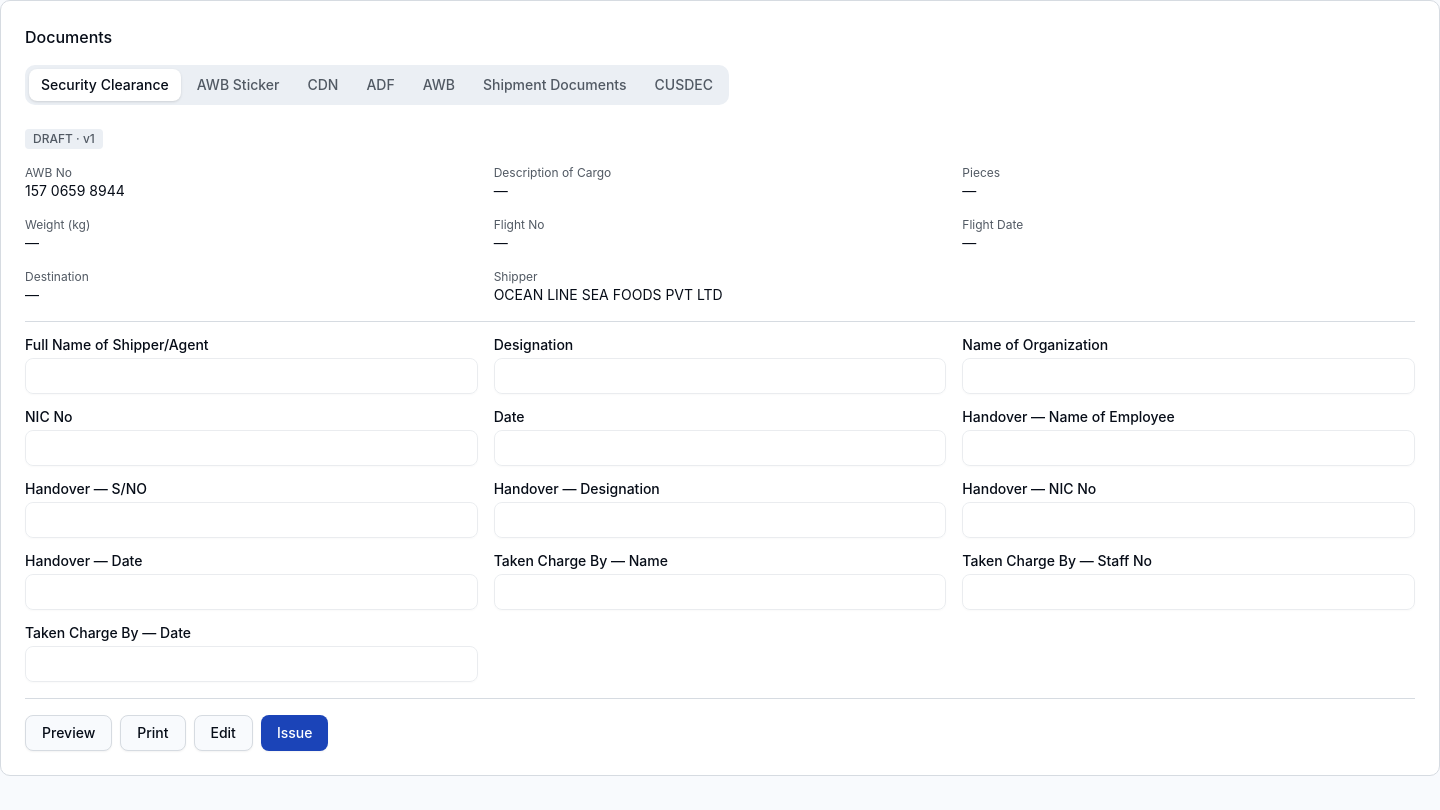
Test case: DocumentsSection › field data starts read-only with an Edit button; Cancel reverts without saving
Expected: the button "Save" is not shown
Click the button "Edit" at (223, 733), box [194,715,253,751]
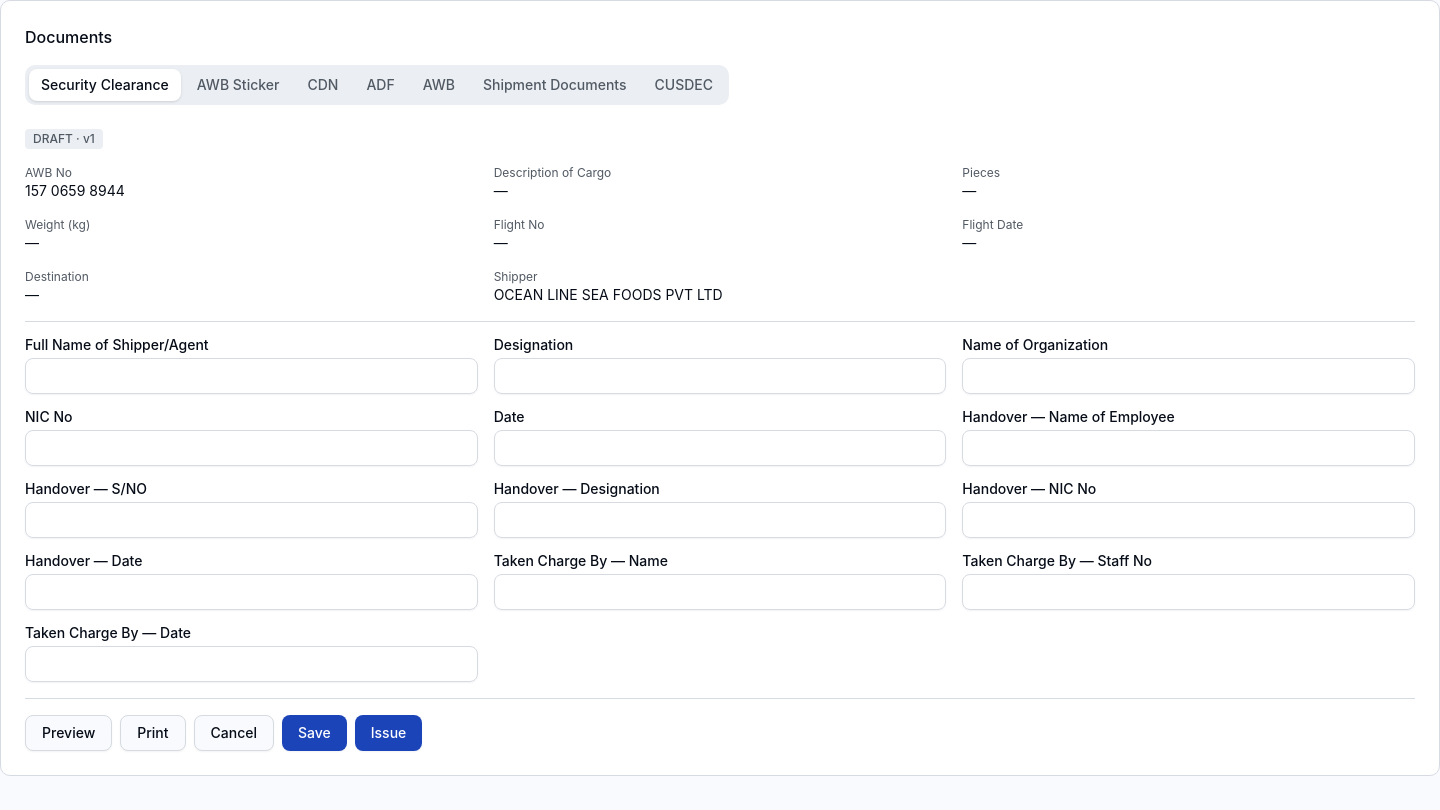
Type "Someone" into the field labelled "Handover — Name of Employee" at (1189, 448), box [962,430,1415,466]
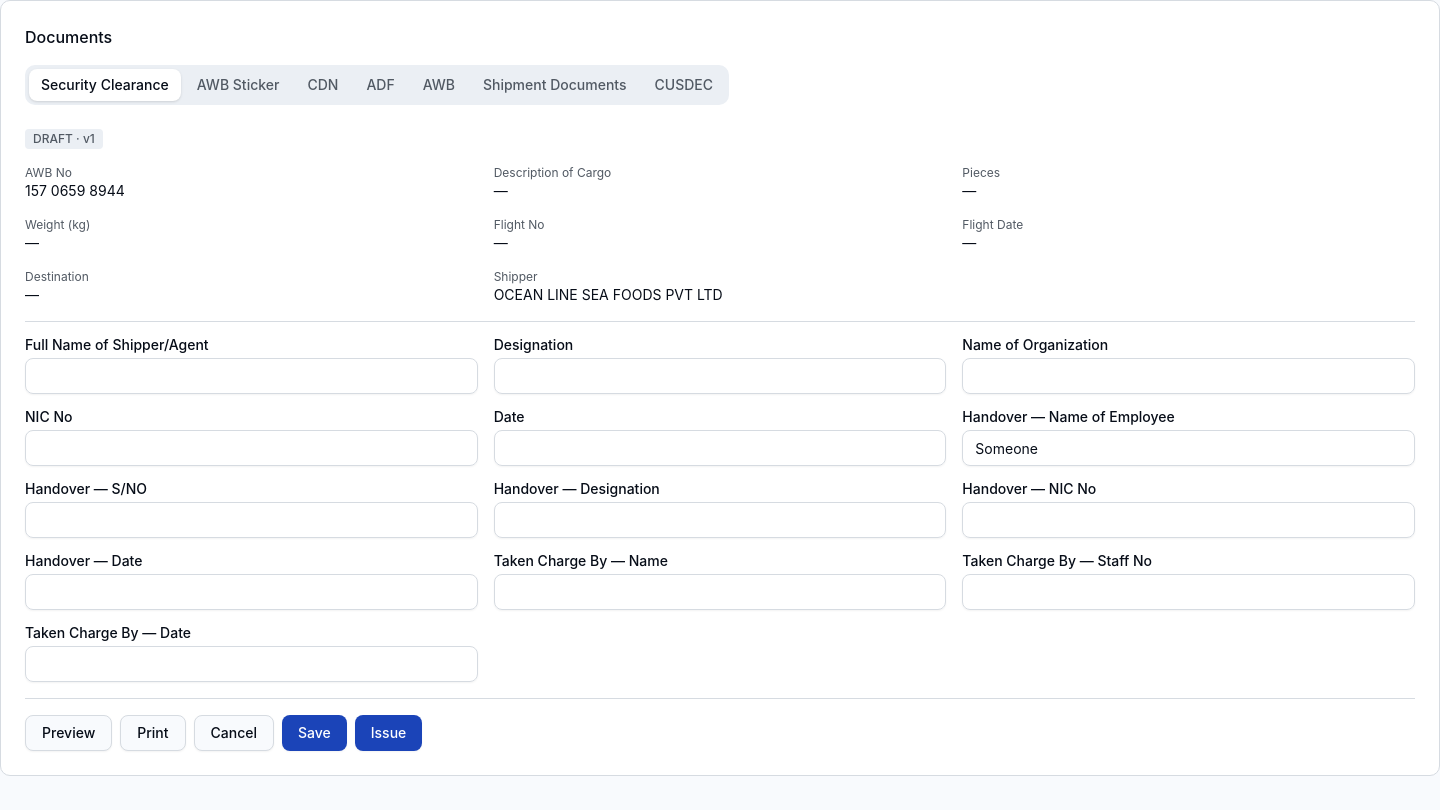
Click the button "Cancel" at (234, 733), box [194,715,274,751]
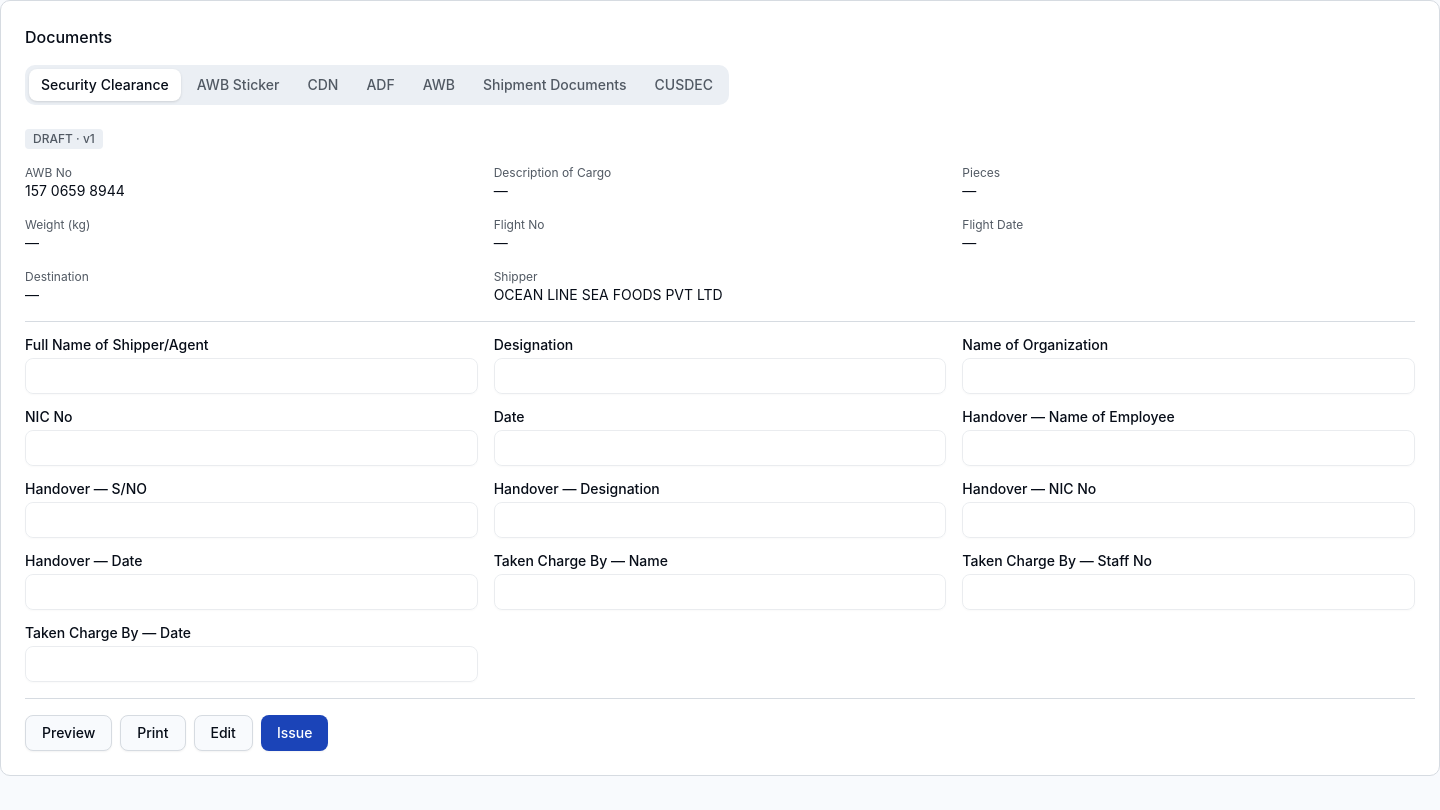
Result: the button "Edit" is shown at [194,715,253,751]
Result: the button "Save" is gone
